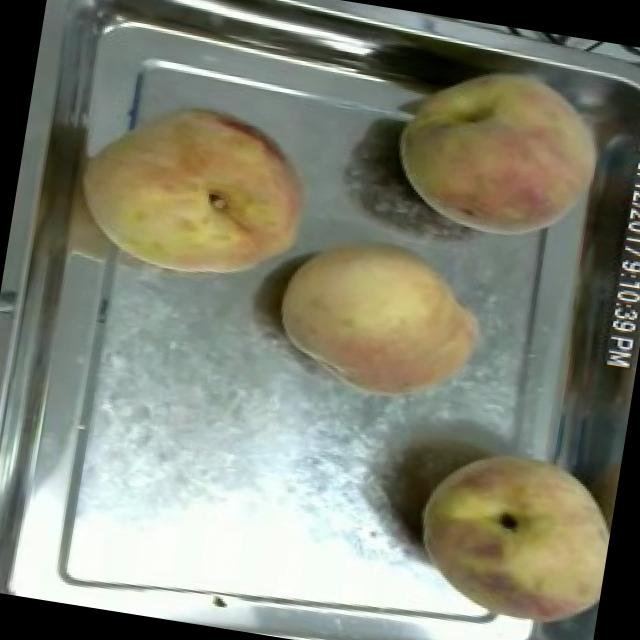Fruit: (66, 80, 334, 302), (376, 39, 620, 258), (262, 216, 504, 420), (393, 425, 622, 640)
